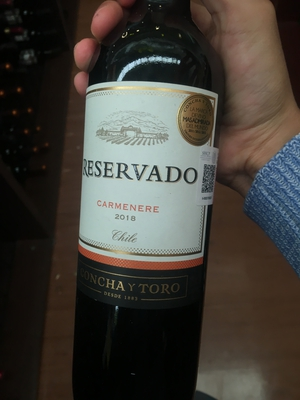reservado carmenere: (77, 16, 226, 400)
